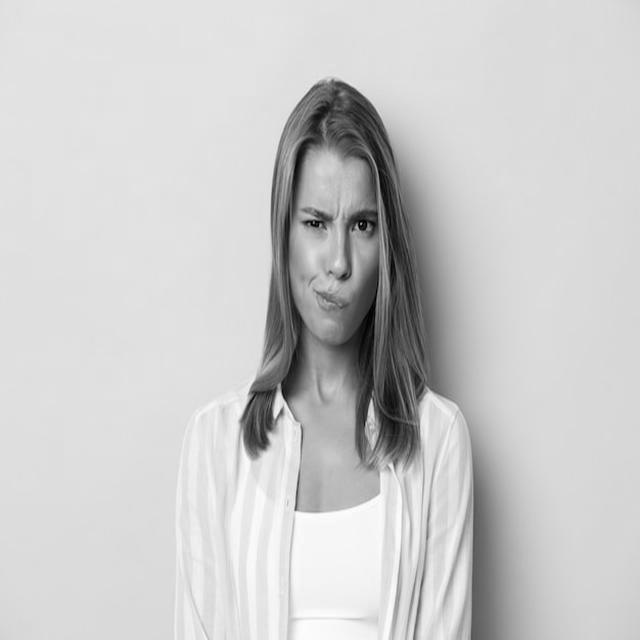Angry: (288, 151, 383, 343)
